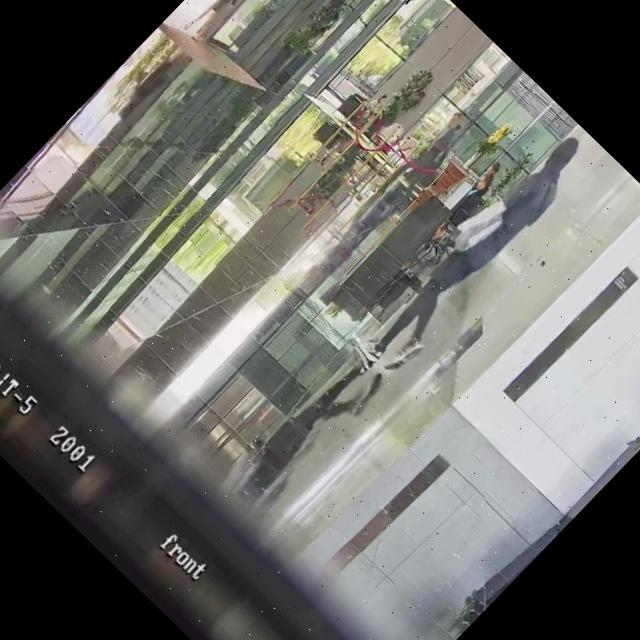person: (353, 127, 602, 382), (373, 106, 482, 218), (174, 0, 273, 44), (442, 170, 502, 231), (346, 90, 397, 141), (481, 159, 504, 182)
